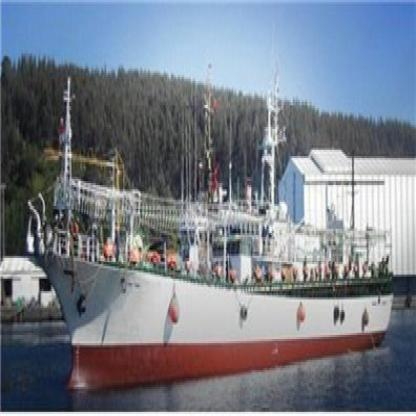fish-b: (40, 20, 403, 406)
